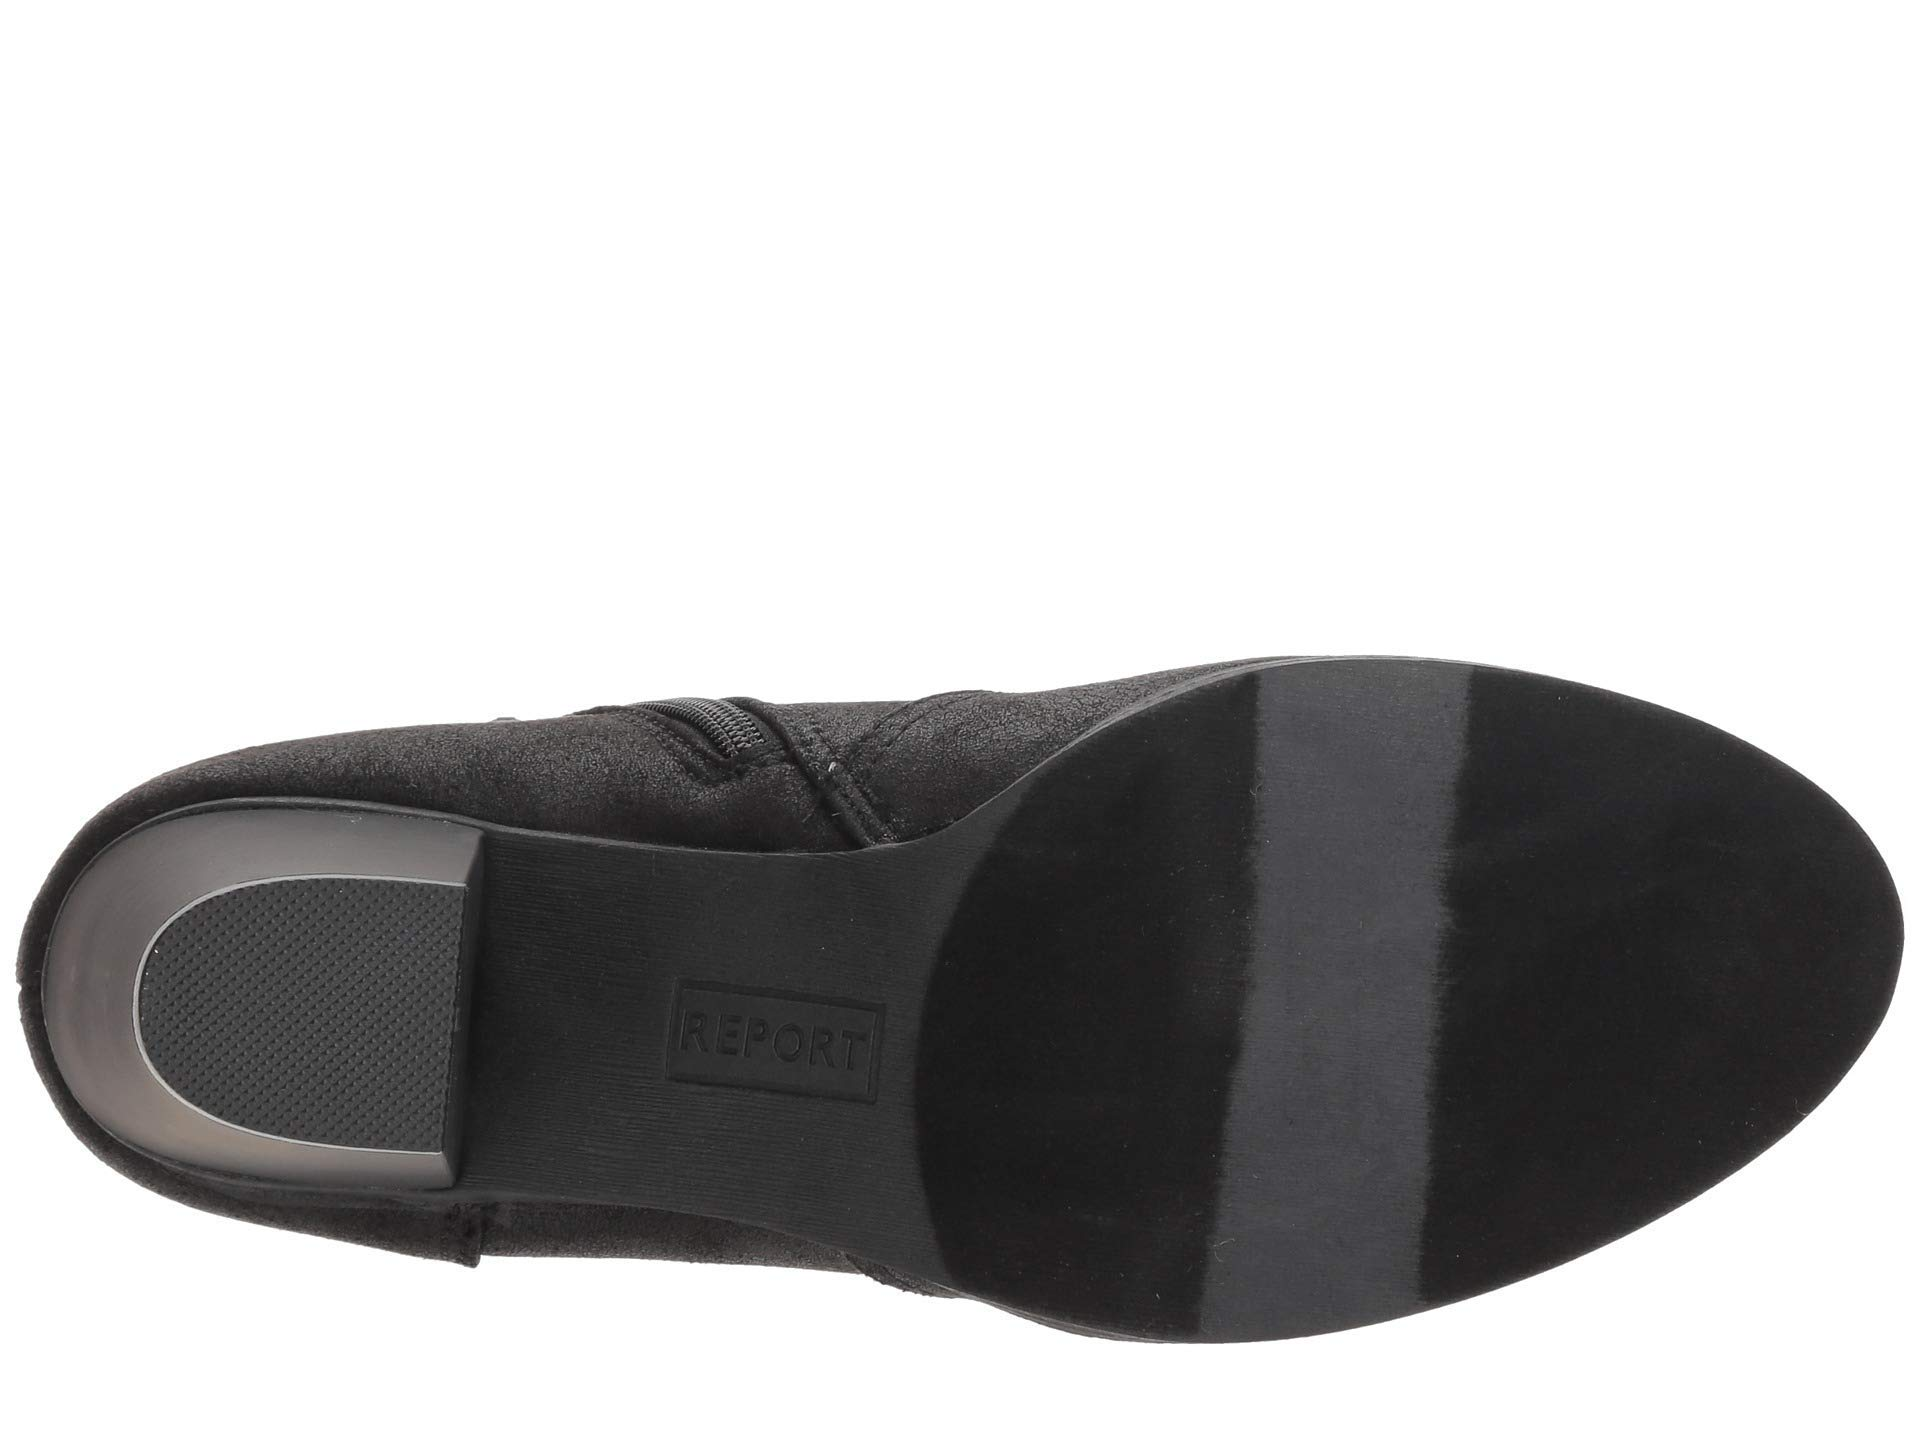quad: (206, 915, 449, 1109)
